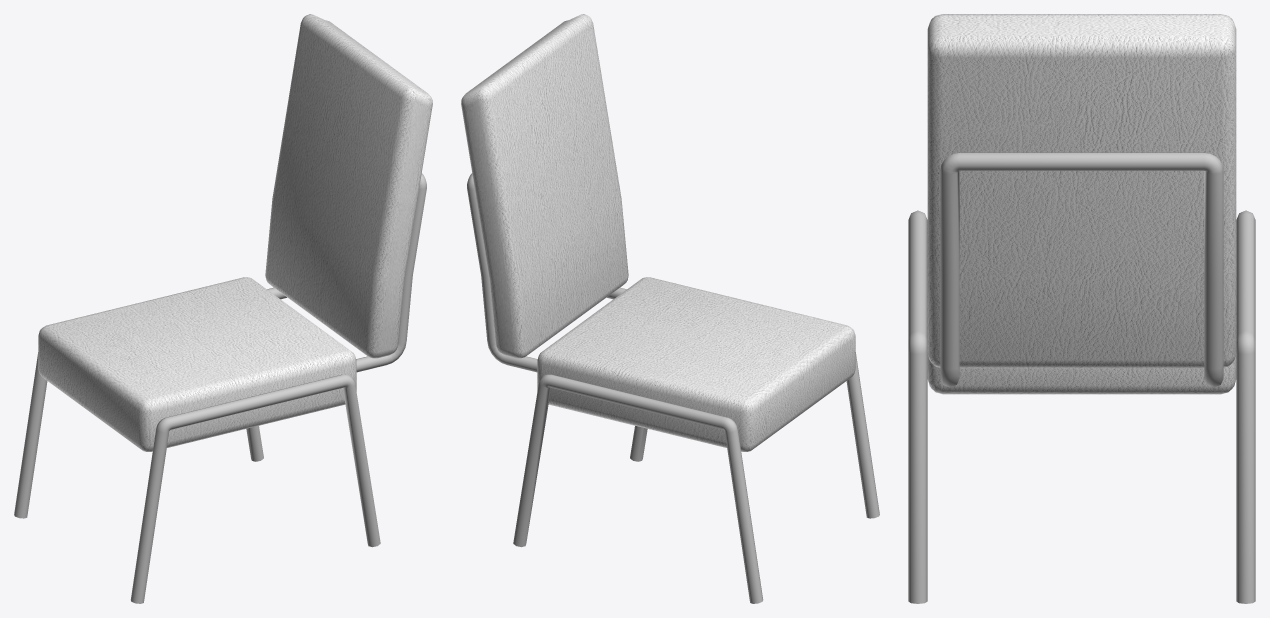
File: chair_2.fbx
3 views of the same model, side by side, from view 1: azimuth 30°, elevation 25°; view 2: azimuth 150°, elevation 25°; view 3: azimuth 270°, elevation 25° (orthographic). The views are drawn at different scales.
Visible parts, largest first — view 1: chair_2; view 2: chair_2; view 3: chair_2.
Part boxes in pixels (x1,y1,x2,y2): chair_2: (14, 14, 432, 603); chair_2: (461, 14, 879, 603); chair_2: (908, 14, 1255, 603).
Size of the model in its own units: 1.26 by 1.71 by 0.872.
